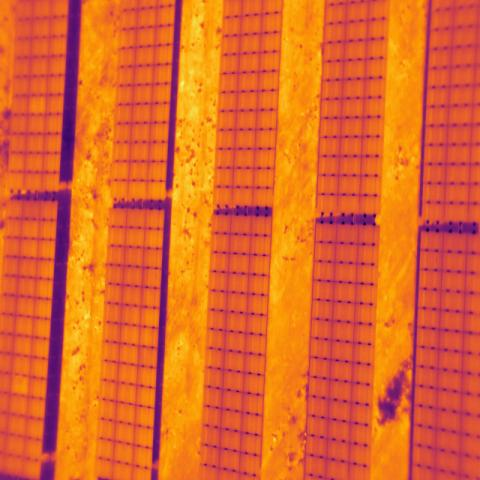fault: (11, 375, 28, 396), (29, 96, 46, 114)
